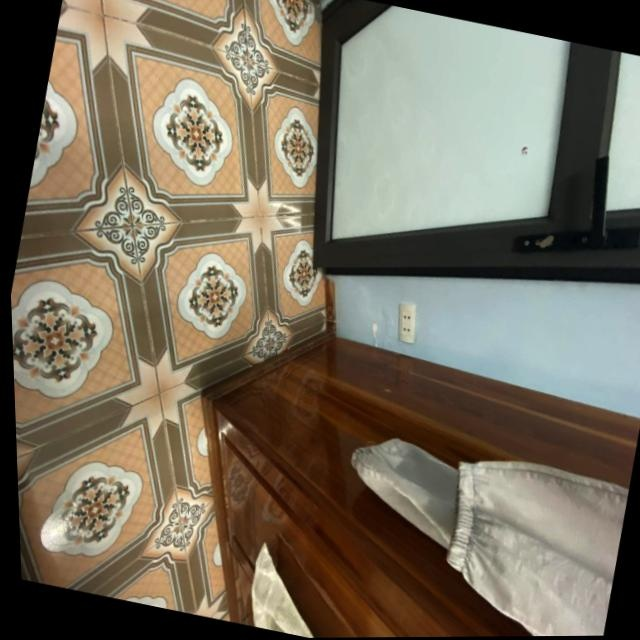outlet: (390, 299, 422, 345)
